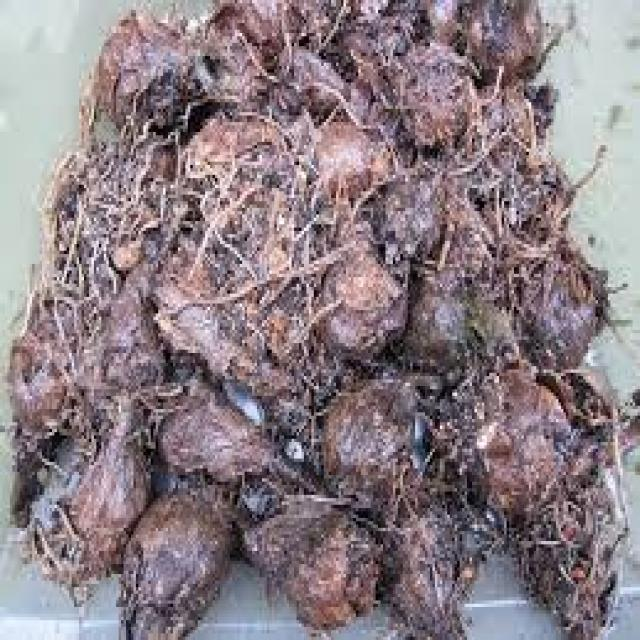organic waste: (20, 165, 158, 383), (150, 247, 324, 419), (27, 389, 156, 604), (156, 92, 324, 254), (311, 356, 457, 515), (512, 432, 625, 637), (190, 0, 413, 99), (234, 485, 380, 630), (116, 468, 237, 636), (74, 7, 198, 165), (452, 366, 571, 521), (506, 195, 610, 363), (457, 76, 576, 218), (143, 366, 277, 482), (312, 188, 406, 350), (3, 310, 69, 515), (385, 498, 477, 637), (366, 132, 450, 257), (452, 201, 516, 360), (393, 43, 467, 152), (561, 353, 637, 459), (311, 99, 393, 195), (390, 251, 464, 356), (457, 0, 543, 82), (386, 0, 462, 53), (274, 412, 316, 485)
